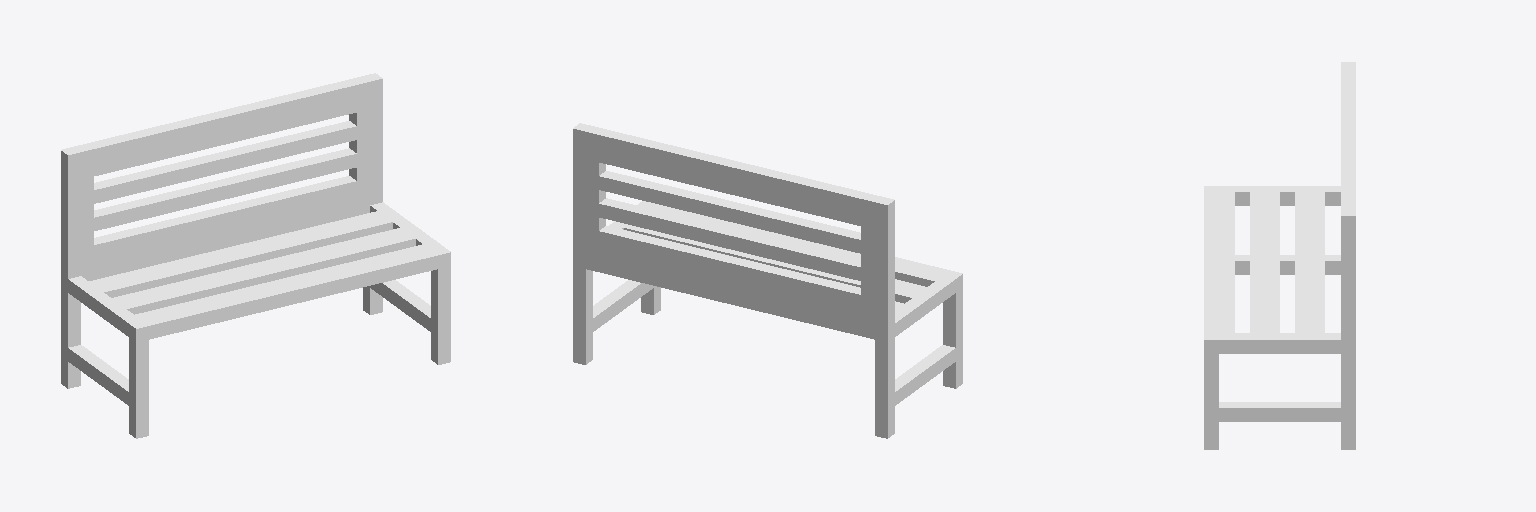
The model's file is banca2.obj.
3 views of the same model, side by side, from view 1: azimuth 30°, elevation 25°; view 2: azimuth 150°, elevation 25°; view 3: azimuth 270°, elevation 25° (orthographic).
Visible parts, largest first — view 1: object 1; view 2: object 1; view 3: object 1.
Part boxes in pixels (x1,y1,x2,y2): object 1: (61, 73, 450, 438); object 1: (573, 123, 962, 438); object 1: (1204, 62, 1355, 449).
Bounding box in the file's own units: 2.4 × 1.7 × 1.